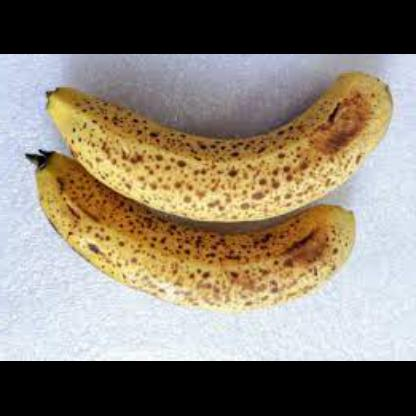banana: (27, 150, 358, 312), (48, 73, 394, 224)
